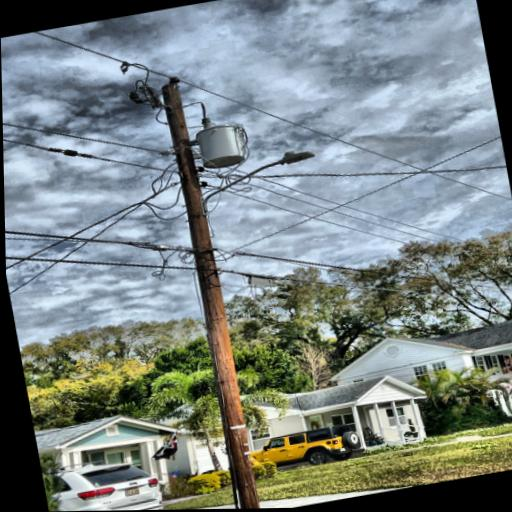insulator: (166, 74, 181, 85)
pole: (145, 62, 279, 510)
street light: (192, 146, 324, 216)
transformer: (193, 119, 250, 170)
